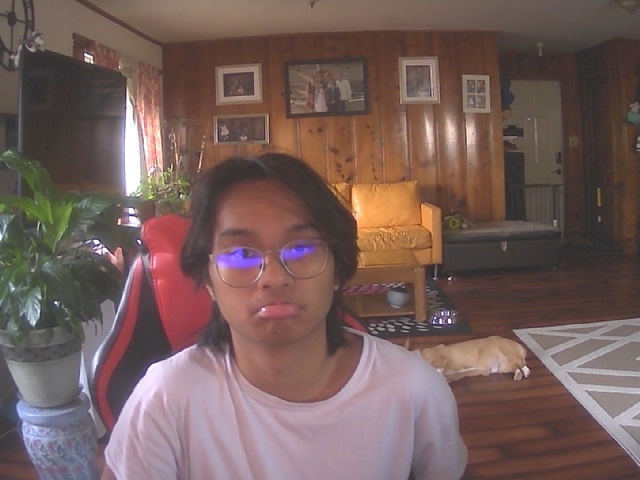sad: (198, 153, 351, 347)
